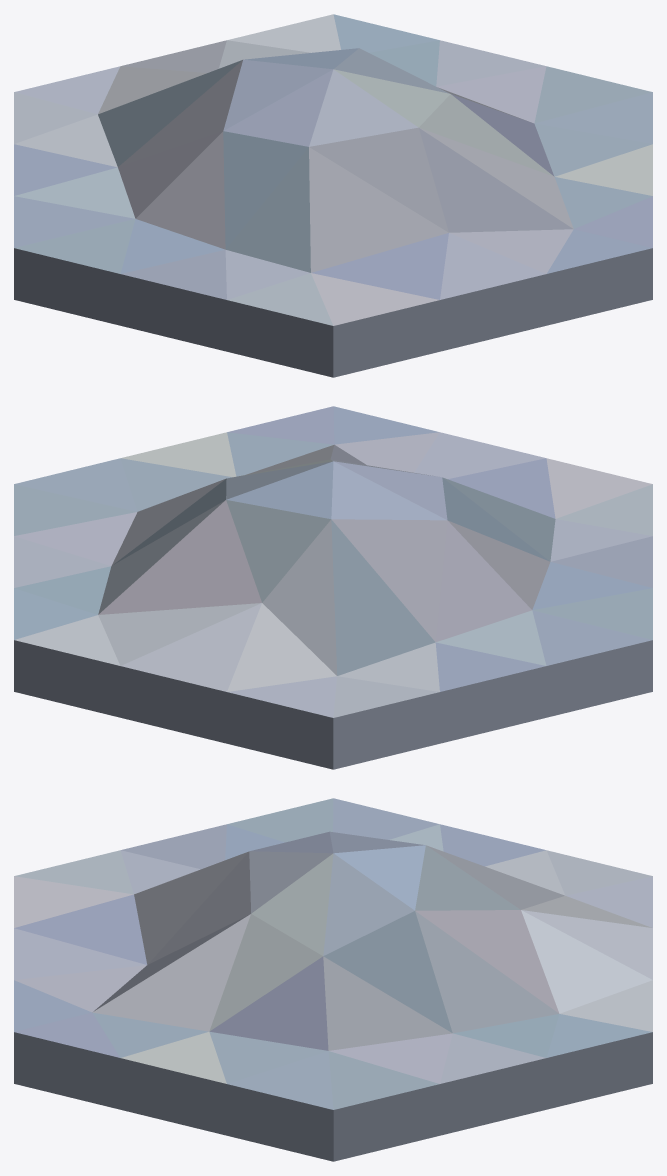
File: Snow Hill-Far.glb
3 renders of one model, top to bottom at view 1: azimuth 30°, elevation 25°; view 2: azimuth 150°, elevation 25°; view 3: azimuth 270°, elevation 25°, orthographic.
Visible parts, largest first — view 1: Snow Hill-Far; view 2: Snow Hill-Far; view 3: Snow Hill-Far.
Boxes of the visible parts, <box> form: Snow Hill-Far: <box>14,14,652,377</box>; Snow Hill-Far: <box>14,406,652,769</box>; Snow Hill-Far: <box>14,798,652,1161</box>.
Bounding box in the file's own units: 1.94 × 0.4425 × 1.68.
